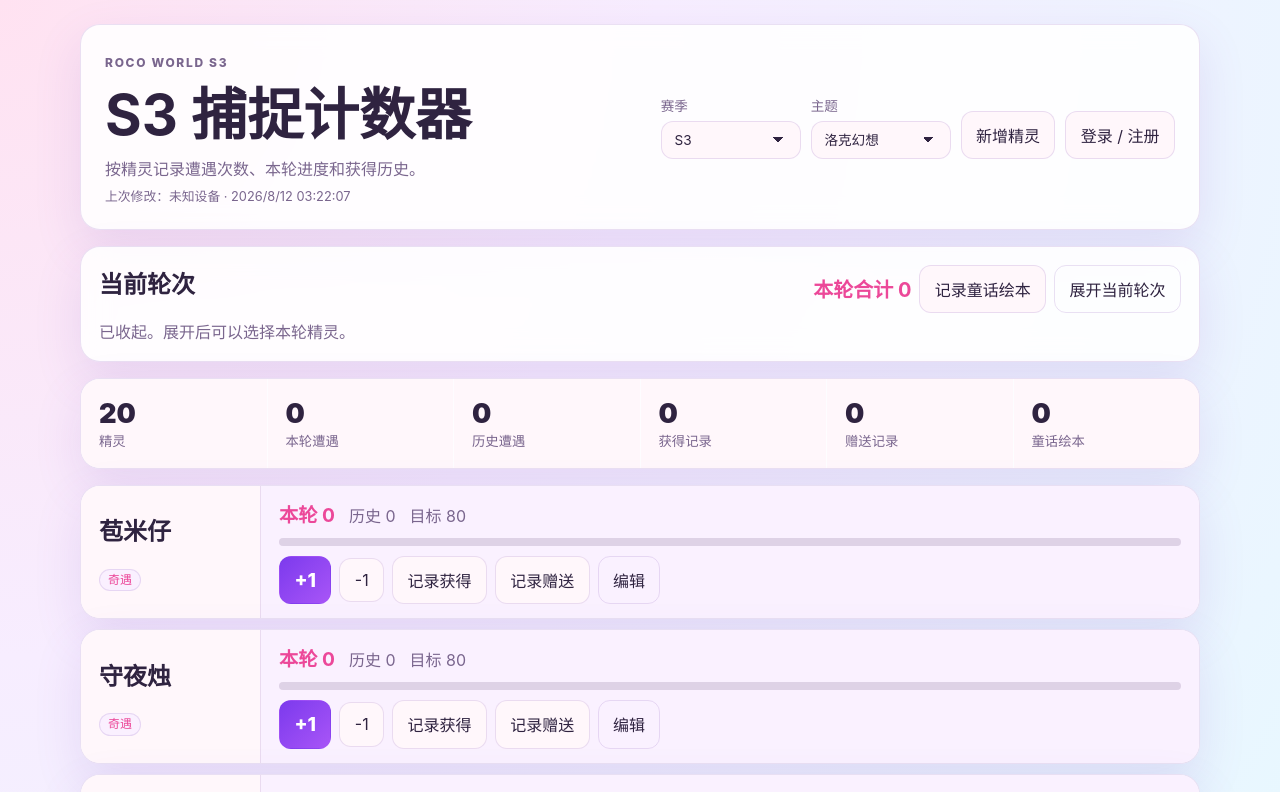
Test: App › increments a creature encounter count
Click the button "+1" below "苞米仔" at (305, 580), box [279,556,331,604]
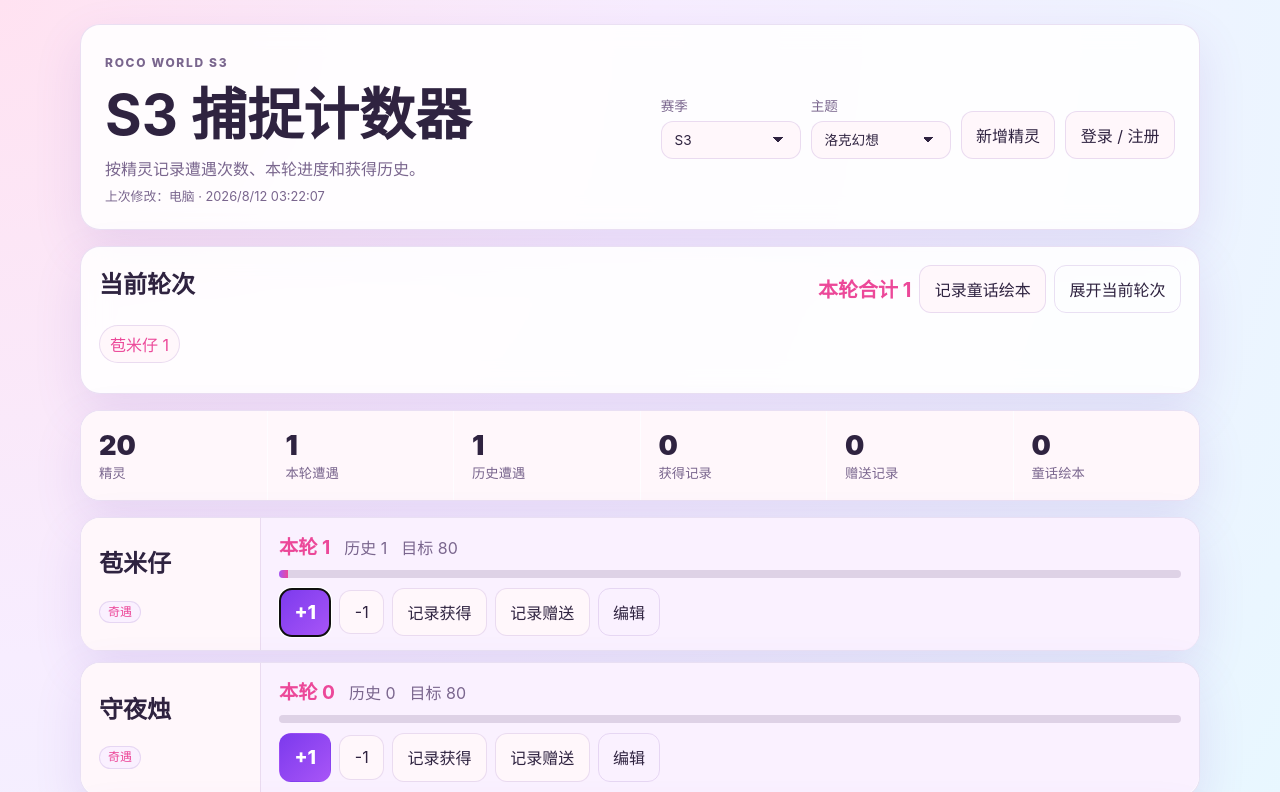
Check: the text "本轮 1" is shown, box [279,532,330,560]
Check: the text "历史 1" is shown, box [344,535,387,559]
Check: the text "本轮合计 1" is shown, box [818,274,911,304]
